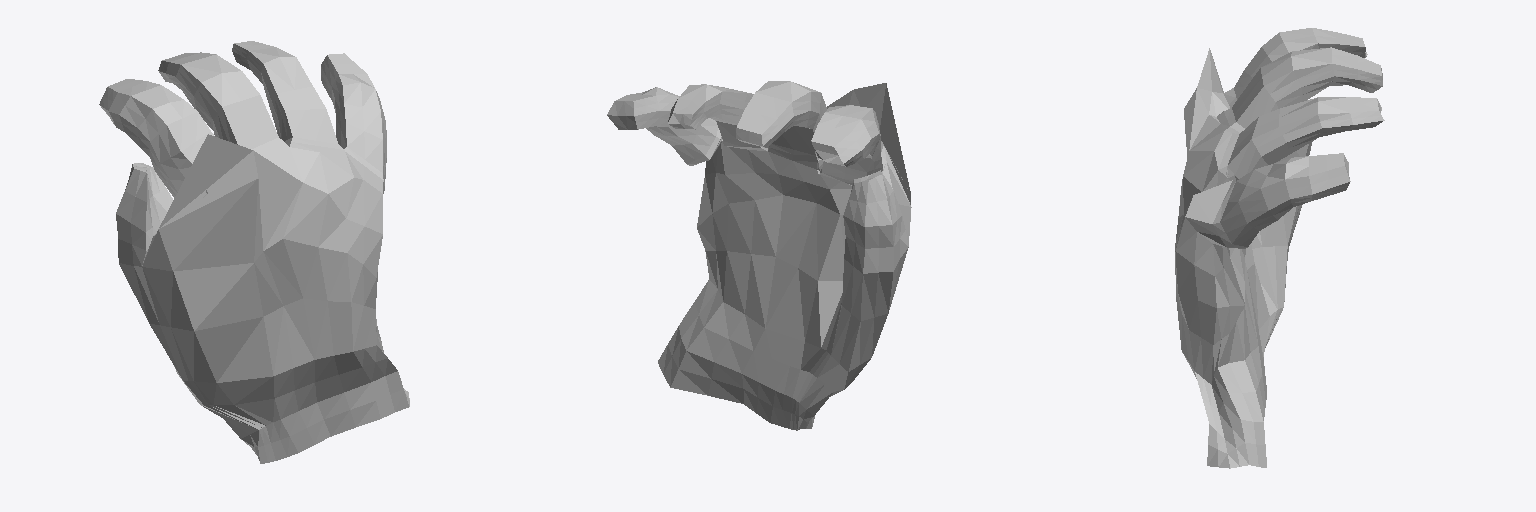
Rendered from grip0038.obj.
3 renders of one model, left to right at view 1: azimuth 30°, elevation 25°; view 2: azimuth 150°, elevation 25°; view 3: azimuth 270°, elevation 25°, orthographic.
Parts seen in each view (by area): view 1: Hand; view 2: Hand; view 3: Hand.
Part boxes in pixels (left/top/right/bottom): Hand: left=99, top=41, right=409, bottom=463; Hand: left=607, top=81, right=911, bottom=430; Hand: left=1175, top=28, right=1384, bottom=468.
Bounding box in the file's own units: 2.88 × 3.86 × 1.97.